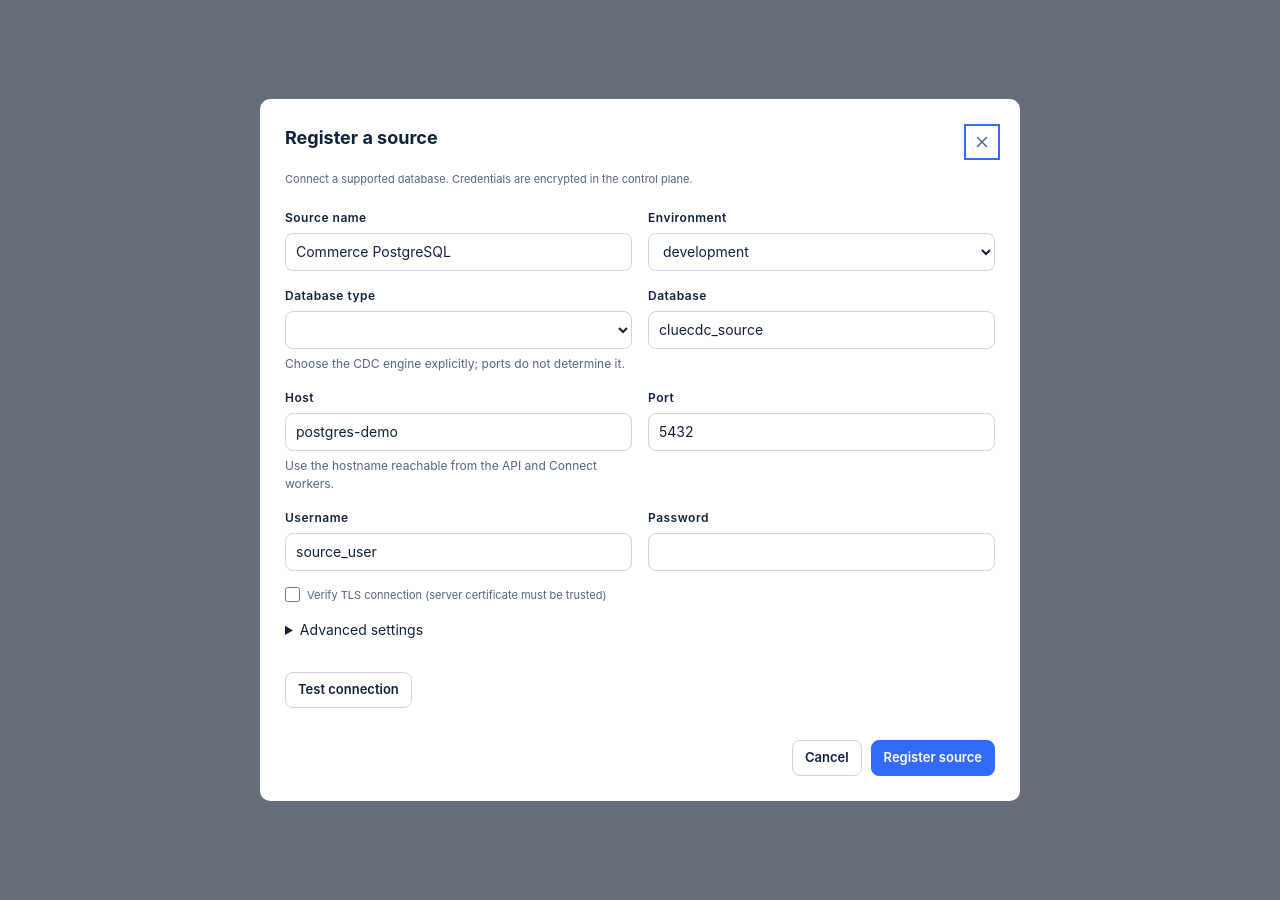
Test case: important controls › requires credentials before registering a source
Click the button "Register source": (933, 758) [871,740,995,776]
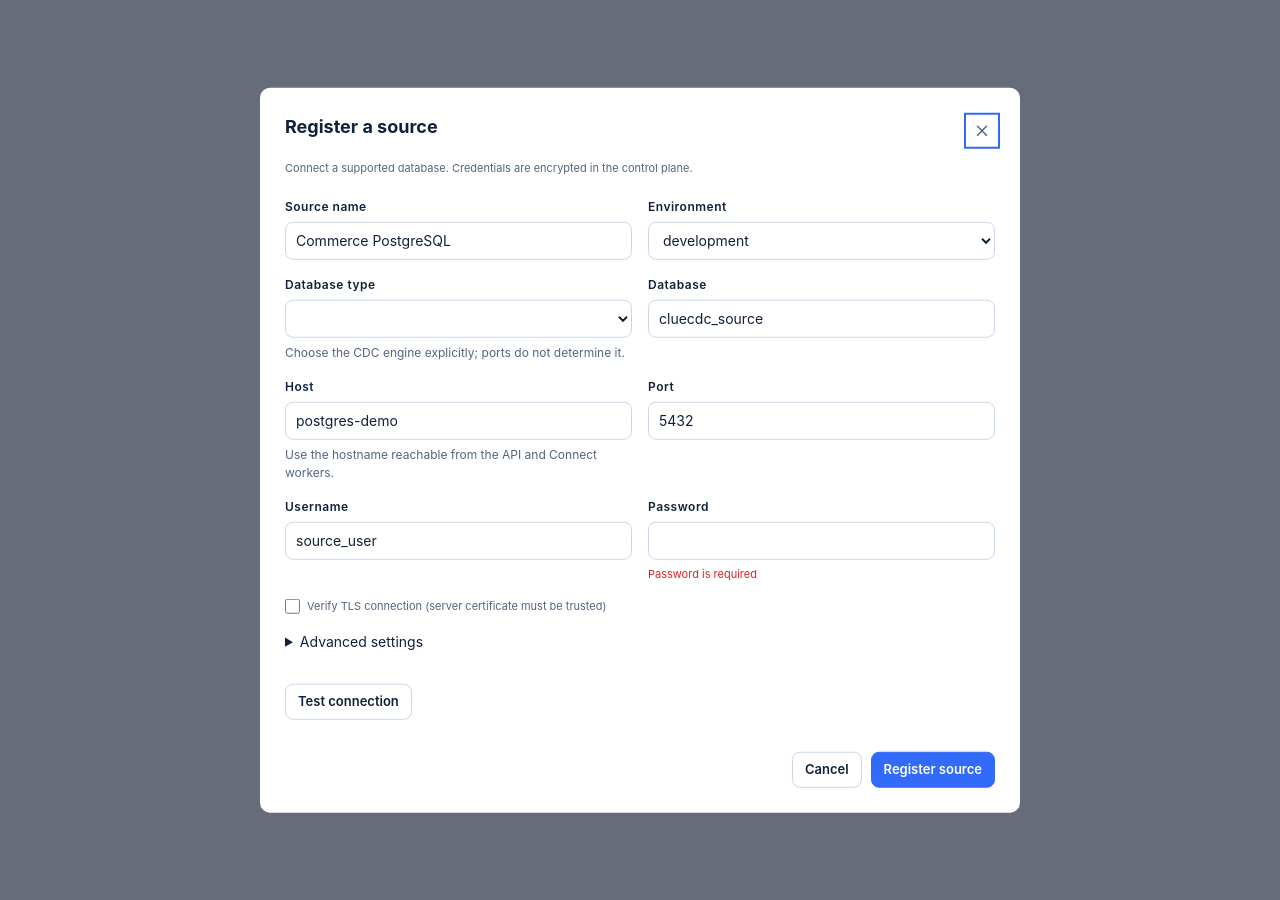
Now the text "Password is required" is shown, box [648,566,757,580]
